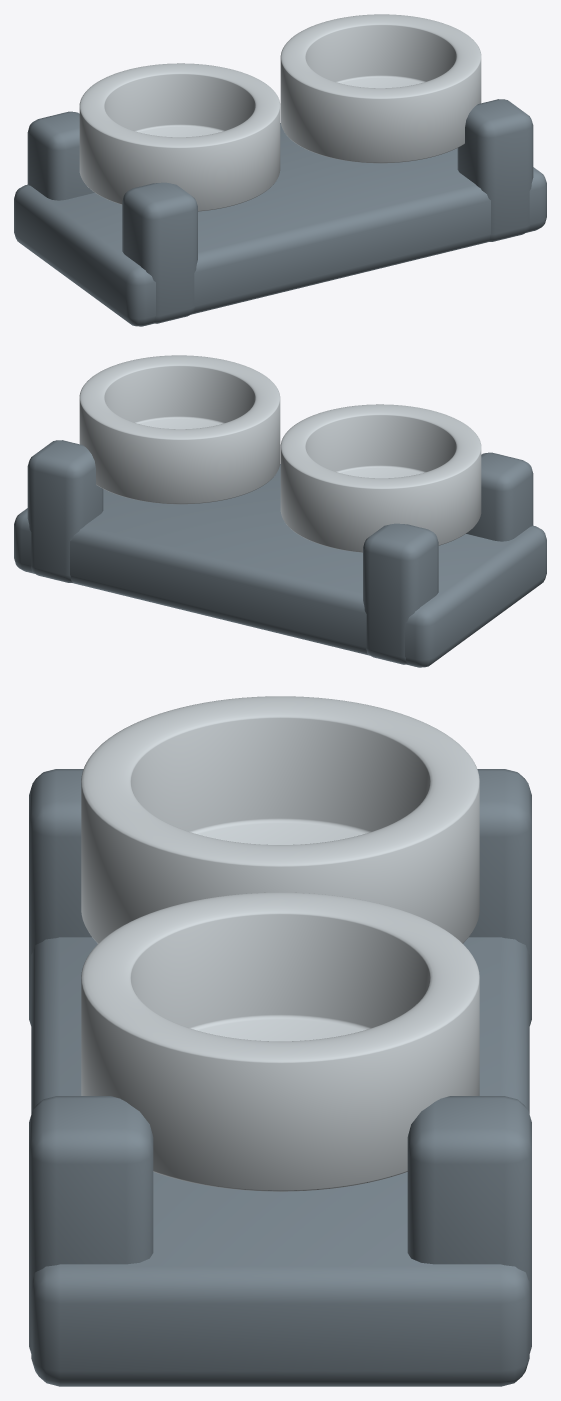
File: pet-feeding-station.glb
3 renders of one model, top to bottom at view 1: azimuth 30°, elevation 25°; view 2: azimuth 150°, elevation 25°; view 3: azimuth 270°, elevation 25°, orthographic. The views are drawn at different scales.
Visible parts, largest first — view 1: catalog_surface_RealismUV; view 2: catalog_surface_RealismUV; view 3: catalog_surface_RealismUV.
Part boxes in pixels (left/top/right/bottom): catalog_surface_RealismUV: left=14, top=14, right=546, bottom=326; catalog_surface_RealismUV: left=14, top=355, right=546, bottom=667; catalog_surface_RealismUV: left=29, top=696, right=531, bottom=1386.
Bounding box in the file's own units: 0.5 × 0.18 × 0.26.
